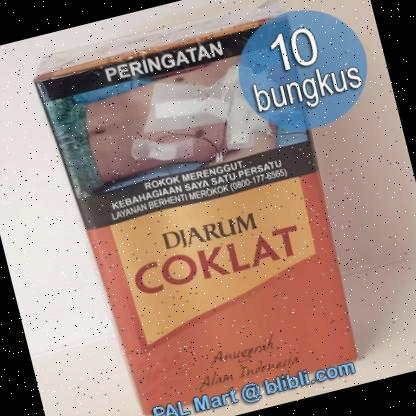bungkus rokok: (23, 0, 368, 416)
